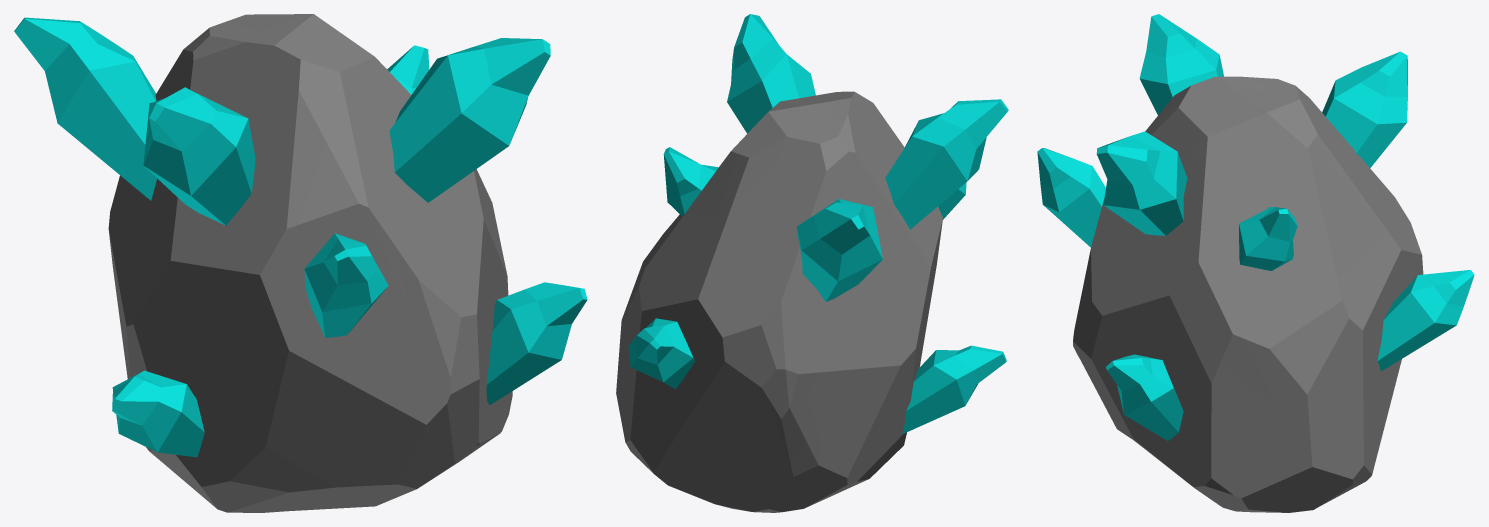
Rendered from MineralNode_10_C.fbx.
The picture shows the model from 3 angles, left to right: view 1: azimuth 30°, elevation 25°; view 2: azimuth 150°, elevation 25°; view 3: azimuth 270°, elevation 25°; orthographic projection. The views are drawn at different scales.
Parts seen in each view (by area): view 1: MineralNode_10_C; view 2: MineralNode_10_C; view 3: MineralNode_10_C.
Boxes of the visible parts, <box> form: MineralNode_10_C: <box>14,14,587,512</box>; MineralNode_10_C: <box>616,14,1008,512</box>; MineralNode_10_C: <box>1037,14,1474,512</box>.
Bounding box in the file's own units: 82.25 × 91.57 × 94.27.
